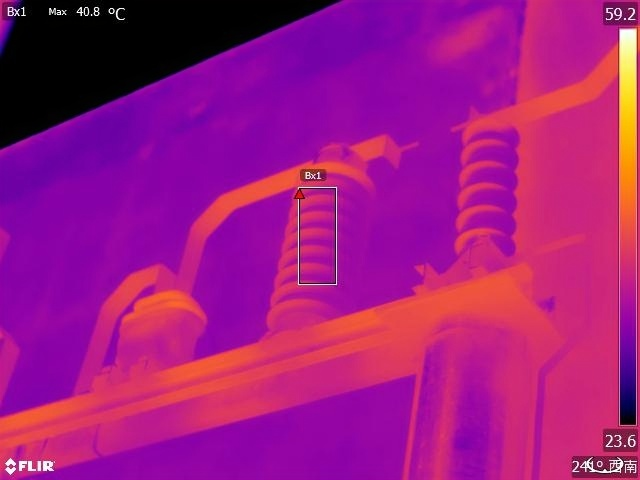post insulator: (251, 154, 374, 332), (455, 114, 537, 259)
